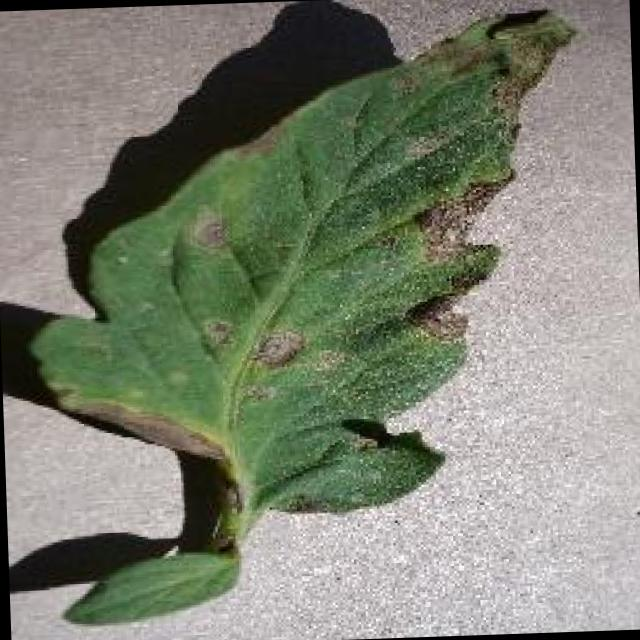Tomato_Early_Blight: (47, 2, 580, 517)
